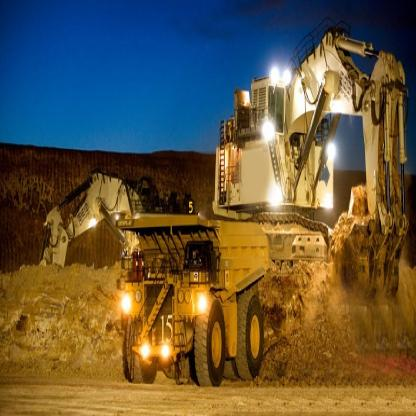dump_truck: (104, 197, 279, 387)
excavator: (206, 20, 409, 304), (26, 138, 146, 288)
